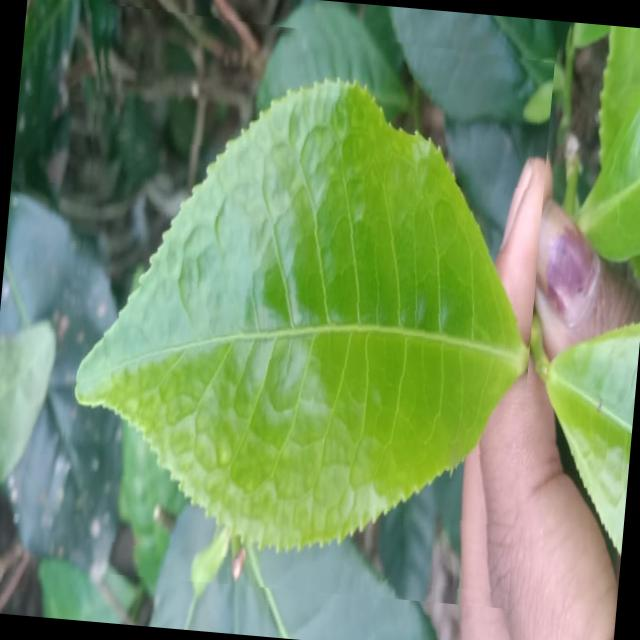Category B(2-4 days): (49, 1, 556, 608)
